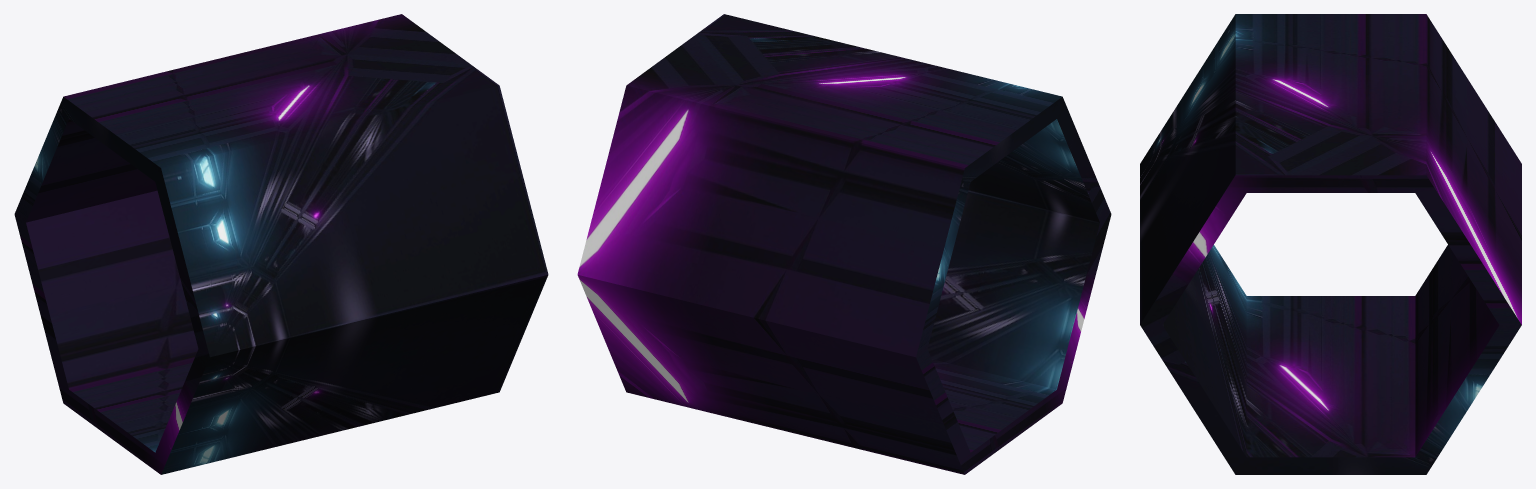
File: Map_CityEscapeTest.glb
The picture shows the model from 3 angles, left to right: view 1: azimuth 30°, elevation 25°; view 2: azimuth 150°, elevation 25°; view 3: azimuth 270°, elevation 25°; orthographic projection. The views are drawn at different scales.
Visible parts, largest first — view 1: Cylinder-col; view 2: Cylinder-col; view 3: Cylinder-col.
Part boxes in pixels (<box>): Cylinder-col: <box>14,14,548,474</box>; Cylinder-col: <box>577,14,1111,474</box>; Cylinder-col: <box>1140,14,1521,474</box>.
Size of the model in its own units: 18.22 by 15.78 by 18.22.
Materials: 1 (1 with a texture image).
